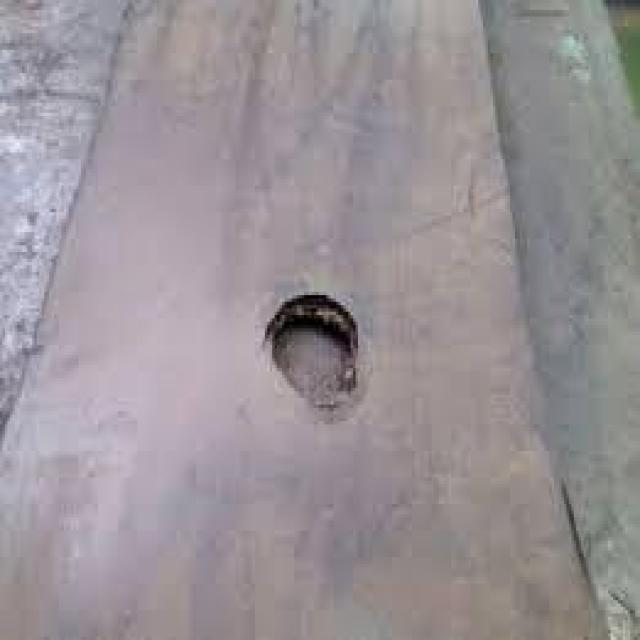Hole: (258, 288, 374, 432)
